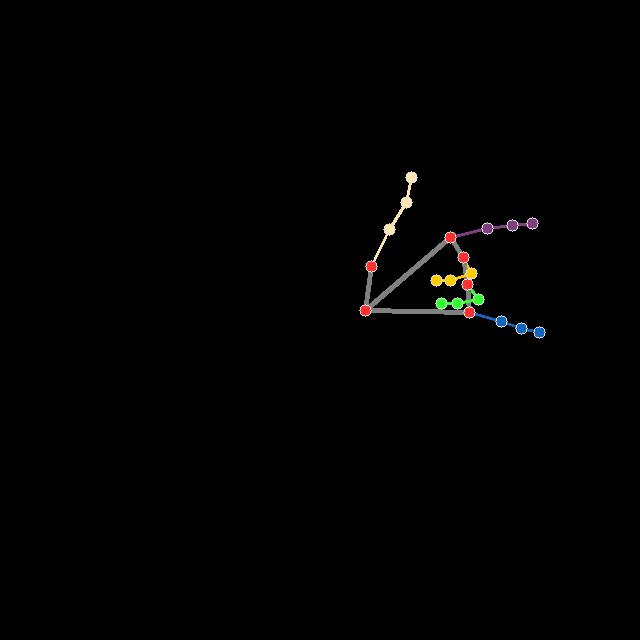spiderman: (361, 170, 546, 338)
